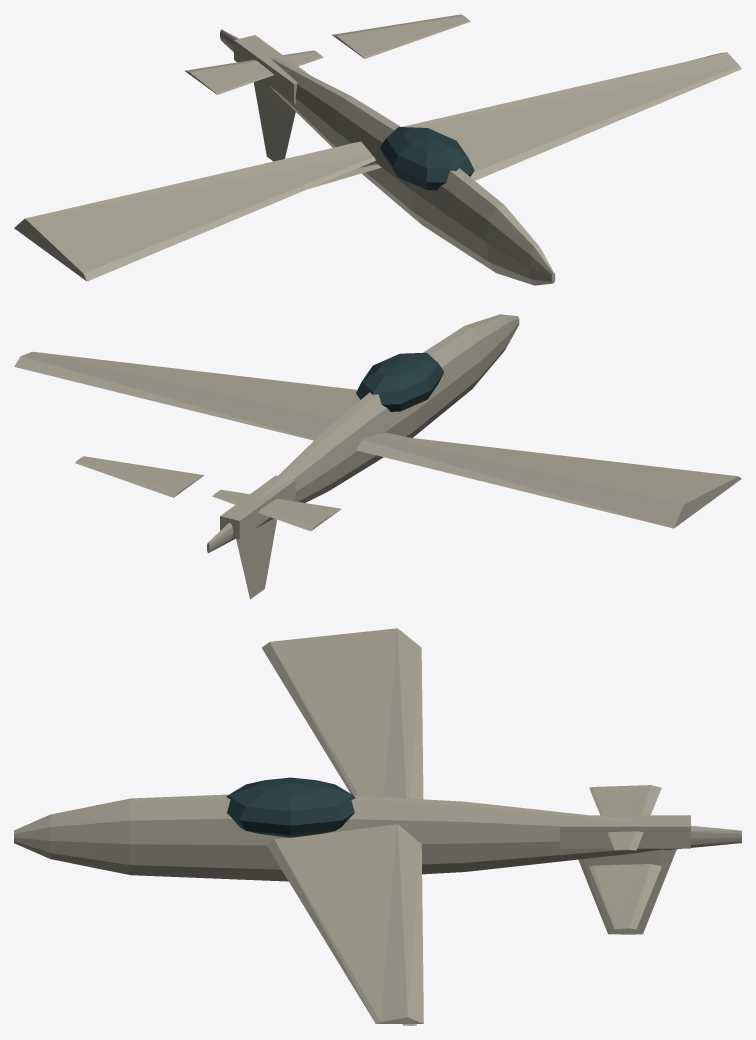
The picture shows the model from 3 angles, top to bottom: view 1: azimuth 30°, elevation 25°; view 2: azimuth 150°, elevation 25°; view 3: azimuth 270°, elevation 25°; orthographic projection. The views are drawn at different scales.
Visible parts, largest first — view 1: Wing_L, Fuselage, Wing_R, Cockpit, Elevator_R, Elevator_L, Rudder, TailBoom; view 2: Wing_L, Wing_R, Fuselage, Cockpit, Elevator_R, Rudder, TailBoom, Elevator_L; view 3: Fuselage, Wing_R, Wing_L, Cockpit, TailBoom, Elevator_R, Elevator_L, Rudder.
Part boxes in pixels (x1,y1,x2,y2): Wing_L: (14,141,375,281); Fuselage: (220,29,555,285); Wing_R: (402,52,741,180); Cockpit: (380,127,474,190); Elevator_R: (332,14,470,58); Elevator_L: (184,50,323,94); Rudder: (253,80,295,161); TailBoom: (234,35,309,103); Wing_L: (356,434,741,528); Wing_R: (14,351,360,440); Fuselage: (207,314,519,552); Cockpit: (356,352,443,411); Elevator_R: (75,456,203,497); Rudder: (236,518,276,599); TailBoom: (220,475,295,539); Elevator_L: (212,489,341,531); Fuselage: (14,794,741,881); Wing_R: (267,824,423,1023); Wing_L: (261,628,423,799); Cockpit: (226,777,355,837); TailBoom: (560,815,690,848); Elevator_R: (589,864,661,929); Elevator_L: (589,785,661,850); Rudder: (578,849,676,934).
Bounding box in the file's own units: 14.02 × 2.6 × 11.4.
